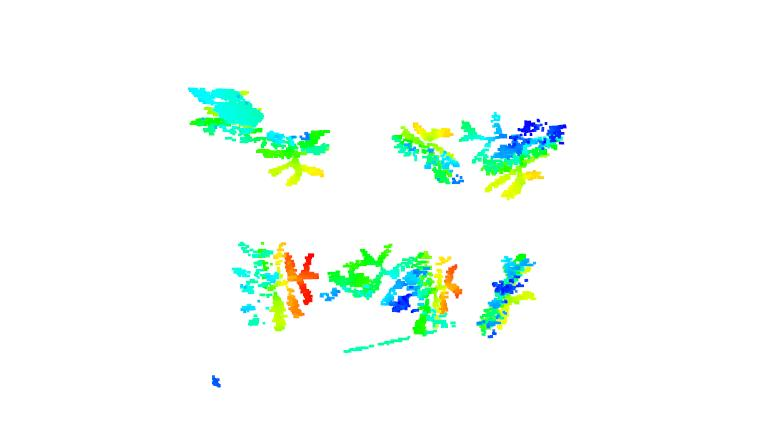chickpea: (327, 247, 431, 333), (233, 235, 319, 337), (464, 114, 567, 198), (175, 84, 266, 150), (390, 119, 467, 190), (479, 250, 537, 341), (419, 256, 474, 339), (262, 129, 330, 182)
